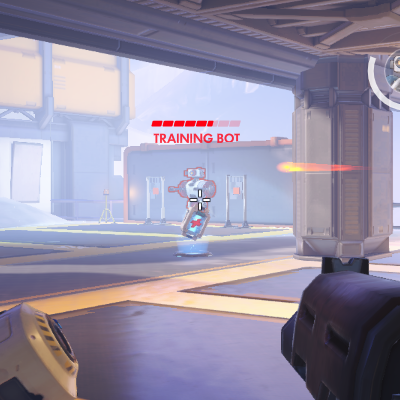hpbar: (151, 120, 241, 127)
